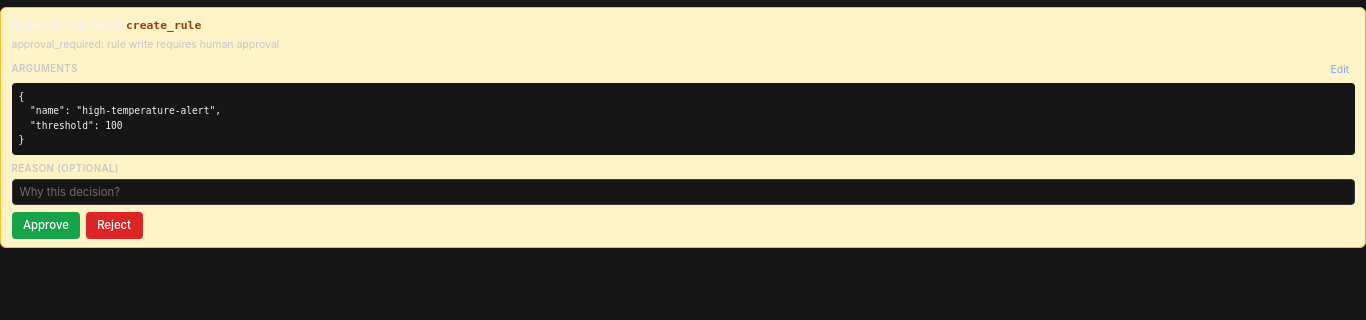
Test: PendingApprovalSection › modify path › rejects a non-object JSON value (array, scalar) without firing
Click the button with test id "approval-edit-args".
click(1340, 70)  # box [1325,60,1354,79]
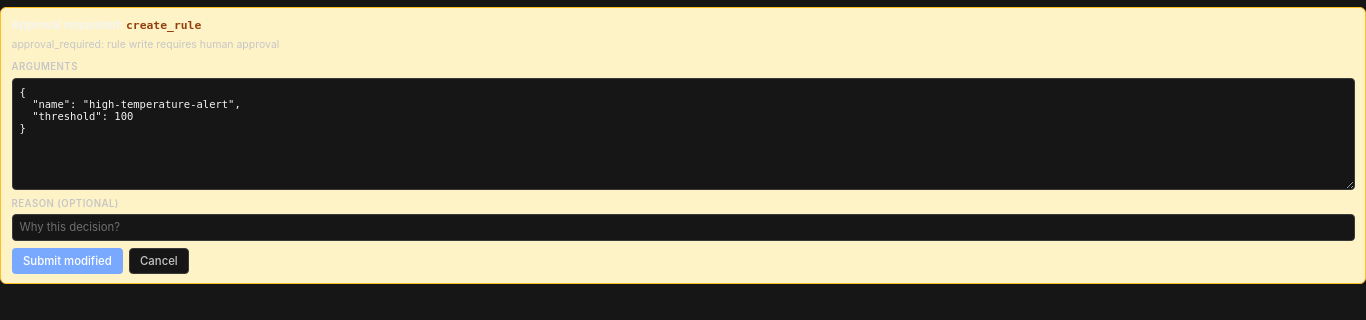
Replace the text in the text box with test id "approval-args-editor" with "[ [1, 2]" at point(683, 134), box [12,78,1354,190]
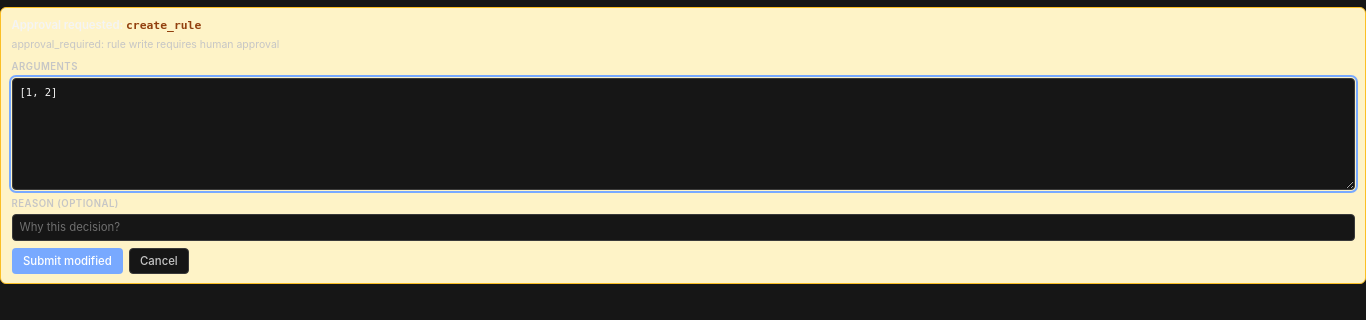
Click the button with test id "approval-submit-modify".
click(67, 261)  # box [12,248,123,274]
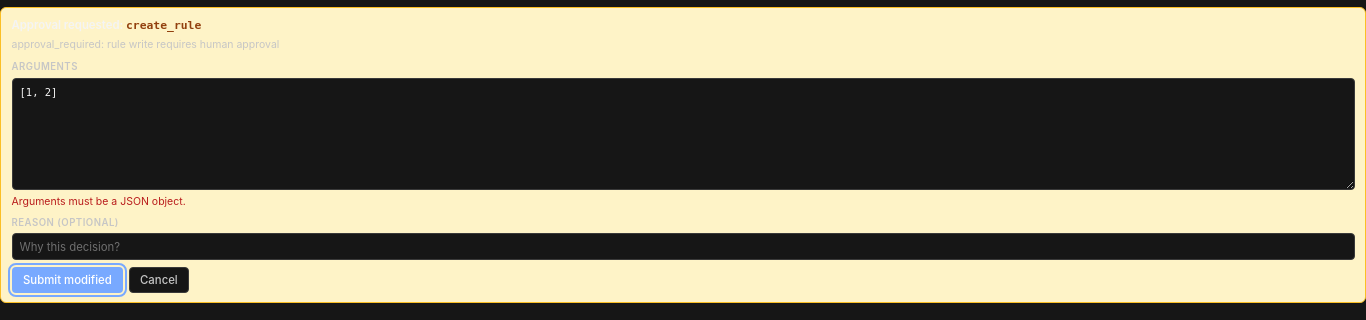
Result: the message with test id "approval-args-error" shows "must be a JSON object" at [12,194,186,208]
